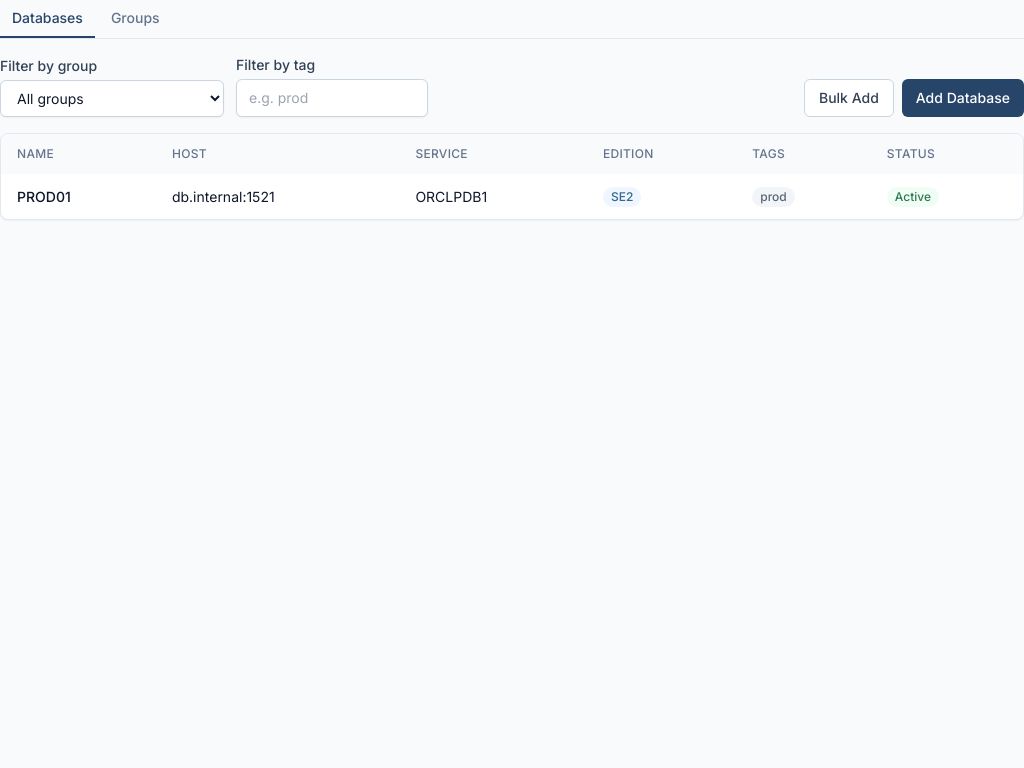
Scenario: DatabasesPage › toggles group membership from the detail drawer
Click the text "PROD01": point(44, 196) [17, 188, 71, 204]
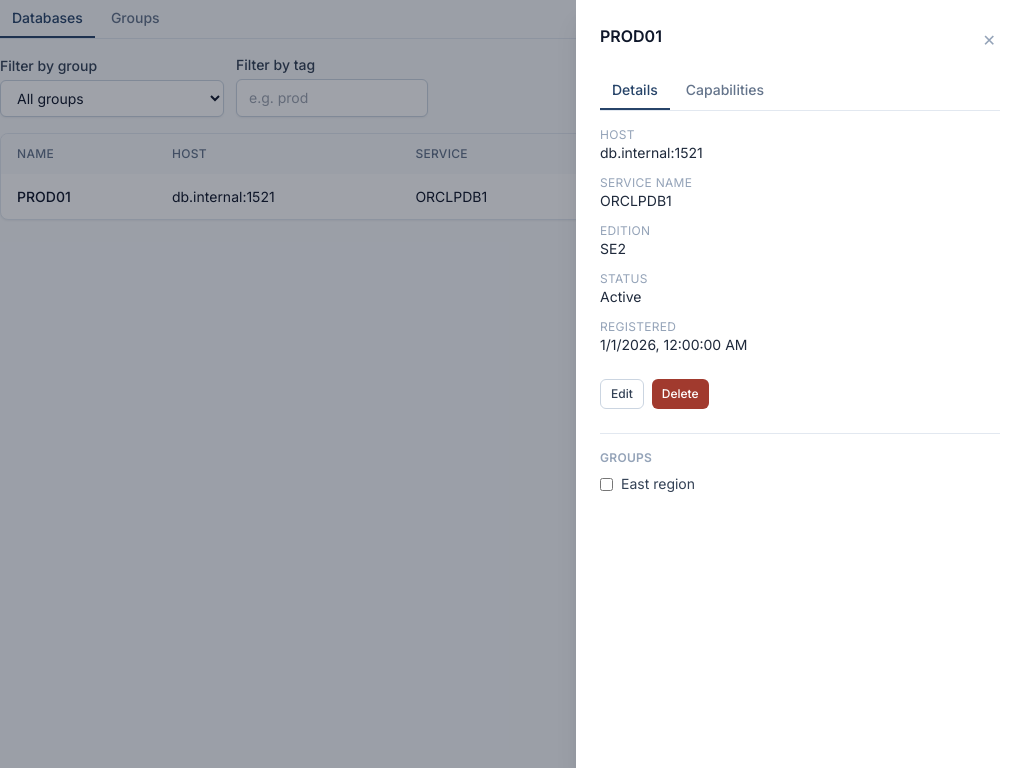
Now the checkbox labelled "East region" is not checked
Click the checkbox labelled "East region": point(606, 484) [600, 478, 613, 490]
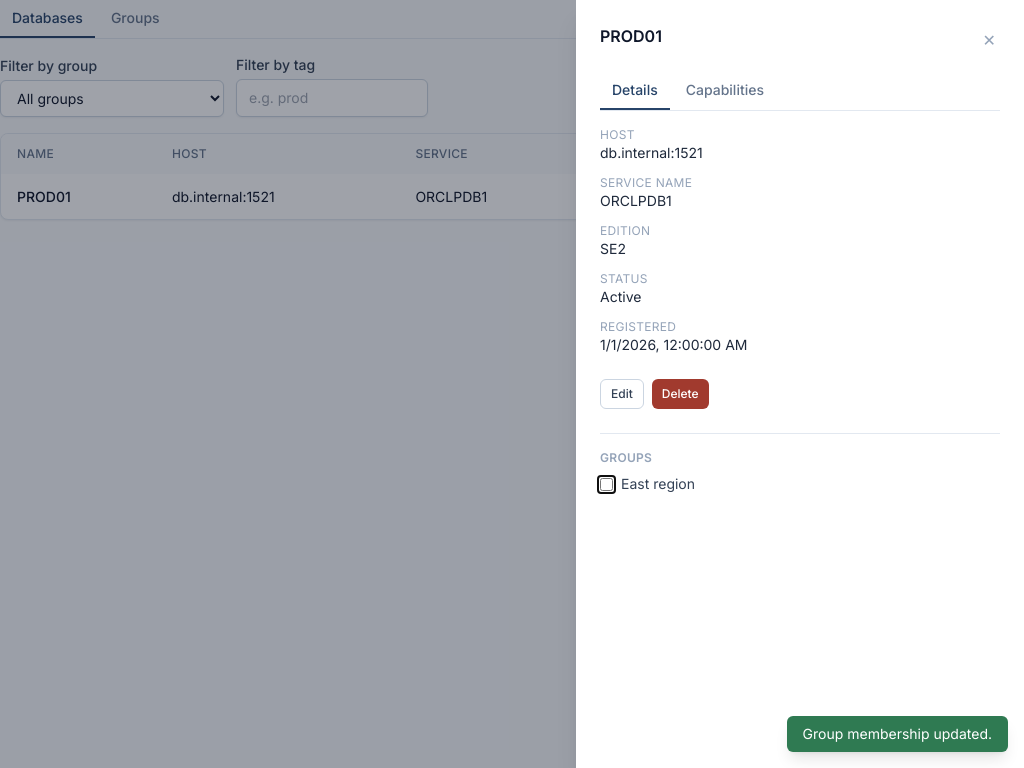
Now the text "Group membership updated." is shown, box [787, 716, 1008, 752]
